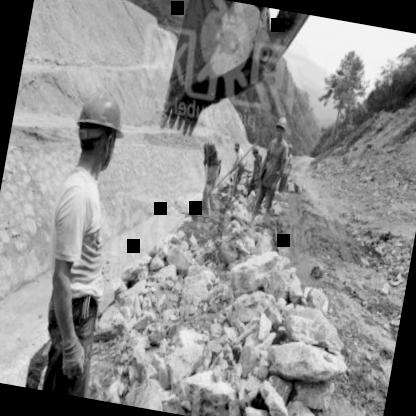helmet: (61, 80, 132, 182), (272, 115, 289, 141), (204, 136, 218, 158), (250, 142, 262, 157), (231, 137, 242, 153)
